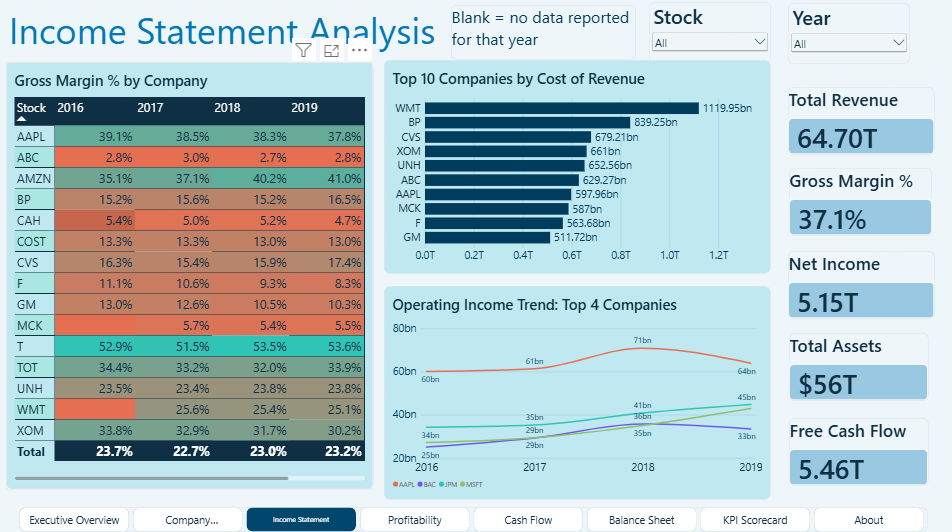

Layout of this report page (visuals, bound fields, positions):
{"tool":"powerbi","page":{"name":"Income Statement","canvas":[1920,1080],"ordinal":2},"visuals":[{"type":"textbox","box":[29.4,26.4,882.9,108.9],"z":0},{"type":"slicer","fields":{"Values":["Dim_Date.Year"]},"box":[1588.1,21.3,244.5,121.2],"z":1000},{"type":"slicer","fields":{"Values":["Dim_Company.stock"]},"box":[1310.7,20.2,244.5,121.2],"z":2000},{"type":"cardVisual","title":"Total Revenue","fields":{"Data":["_Measures.Total Revenue"]},"box":[1588.1,189.2,293,136],"z":3000},{"type":"cardVisual","title":"Net Income","fields":{"Data":["_Measures.Net Income"]},"box":[1588.1,518.7,293,136],"z":4000},{"type":"cardVisual","title":"Free Cash Flow","fields":{"Data":["_Measures.Free Cash Flow"]},"box":[1590.2,852.5,279,136],"z":5000},{"type":"cardVisual","title":"Total Assets","fields":{"Data":["_Measures.Total Assets (Latest)"]},"box":[1590.2,682.4,279,136],"z":6000},{"type":"cardVisual","title":"Gross Margin %","fields":{"Data":["_Measures.Gross Margin %"]},"box":[1590.2,352.9,286,136],"z":7000},{"type":"pivotTable","title":"Gross Margin % by Company","fields":{"Columns":["Dim_Date.Year"],"Rows":["Dim_Company.Stock"],"Values":["_Measures.Gross Margin %"]},"box":[23.5,140.9,735.2,854.3],"z":8000},{"type":"textbox","box":[913,26.4,369.9,108.6],"z":9000},{"type":"clusteredBarChart","title":"Top 10 Companies by Cost of Revenue","fields":{"Category":["Dim_Company.Stock"],"Y":["_Measures.Cost of Revenue"]},"box":[780.9,135,773.4,427.2],"z":10000},{"type":"lineChart","title":"Operating Income Trend: Top 4 Companies","fields":{"Category":["Dim_Date.Year"],"Series":["Dim_Company.Stock"],"Y":["_Measures.Operating Income"]},"box":[780.9,587.2,773.4,427.2],"z":11000},{"type":"pageNavigator","box":[50.3,1029.7,1817.4,50.3],"z":11001}]}

Visuals, with their boxes in screenshot pixels (x1, y1, x2, y2), scaled from the page's 1920x1080 canvas onto the 952x532 screenshot:
textbox: [left=15, top=13, right=452, bottom=67]
slicer - Dim_Date.Year: [left=787, top=10, right=909, bottom=70]
slicer - Dim_Company.stock: [left=650, top=10, right=771, bottom=70]
"Total Revenue" cardVisual: [left=787, top=93, right=933, bottom=160]
"Net Income" cardVisual: [left=787, top=256, right=933, bottom=323]
"Free Cash Flow" cardVisual: [left=788, top=420, right=927, bottom=487]
"Total Assets" cardVisual: [left=788, top=336, right=927, bottom=403]
"Gross Margin %" cardVisual: [left=788, top=174, right=930, bottom=241]
"Gross Margin % by Company" pivotTable: [left=12, top=69, right=376, bottom=490]
textbox: [left=453, top=13, right=636, bottom=66]
"Top 10 Companies by Cost of Revenue" clusteredBarChart: [left=387, top=66, right=771, bottom=277]
"Operating Income Trend: Top 4 Companies" lineChart: [left=387, top=289, right=771, bottom=500]
pageNavigator: [left=25, top=507, right=926, bottom=531]
